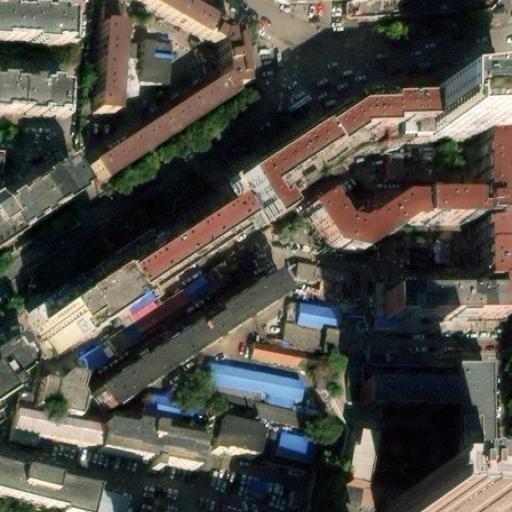building: (93, 272, 280, 410), (100, 78, 244, 184), (105, 210, 247, 316), (401, 201, 512, 328), (144, 0, 257, 93), (314, 187, 435, 269), (235, 144, 323, 237), (0, 172, 79, 246), (204, 360, 313, 411), (313, 116, 423, 166), (41, 297, 116, 363), (445, 350, 481, 487), (93, 424, 198, 469), (9, 400, 100, 445), (437, 95, 512, 139), (91, 17, 122, 111), (359, 371, 447, 403), (339, 444, 374, 495), (212, 426, 255, 467), (262, 433, 308, 469), (138, 41, 170, 89), (294, 298, 343, 328), (360, 356, 447, 372), (248, 348, 307, 363), (298, 258, 332, 274), (321, 326, 338, 357)
